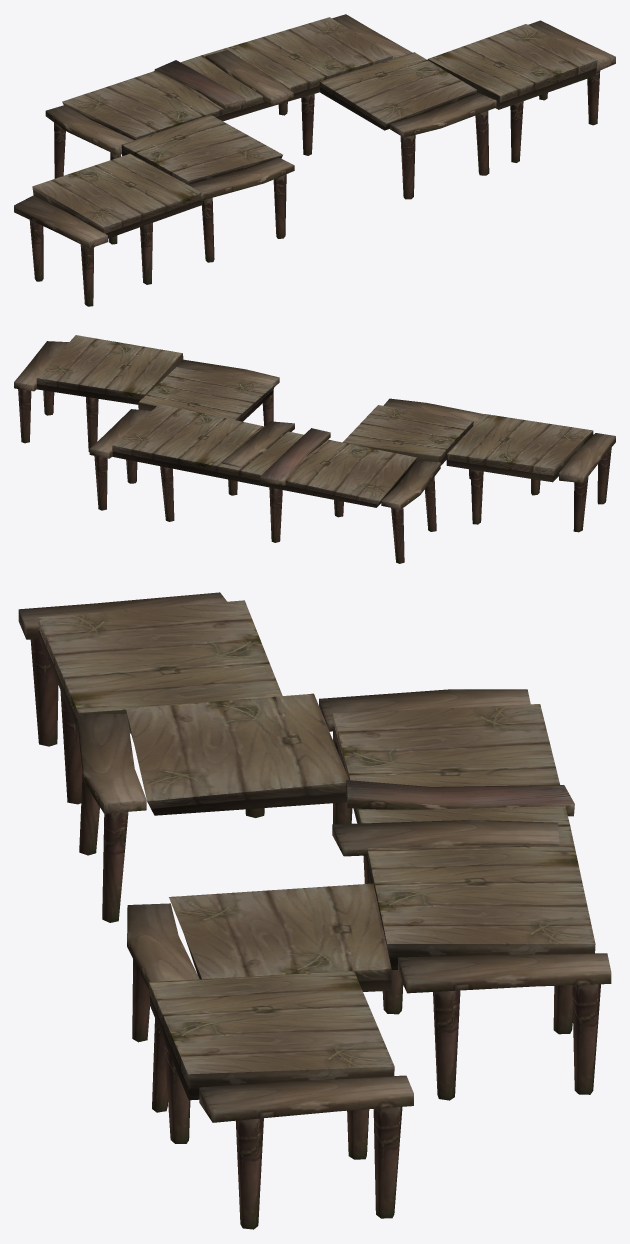
Rendered from Lty_mupaizi.FBX.
3 views of the same model, one above another, from view 1: azimuth 30°, elevation 25°; view 2: azimuth 150°, elevation 25°; view 3: azimuth 270°, elevation 25° (orthographic). The views are drawn at different scales.
Visible parts, largest first — view 1: Lty_mupaizi; view 2: Lty_mupaizi; view 3: Lty_mupaizi.
Boxes of the visible parts, left/top/right/bottom form: Lty_mupaizi: left=14, top=14, right=615, bottom=306; Lty_mupaizi: left=14, top=335, right=615, bottom=563; Lty_mupaizi: left=18, top=592, right=611, bottom=1229.
Size of the model in its own units: 452 by 216 by 62.15.
